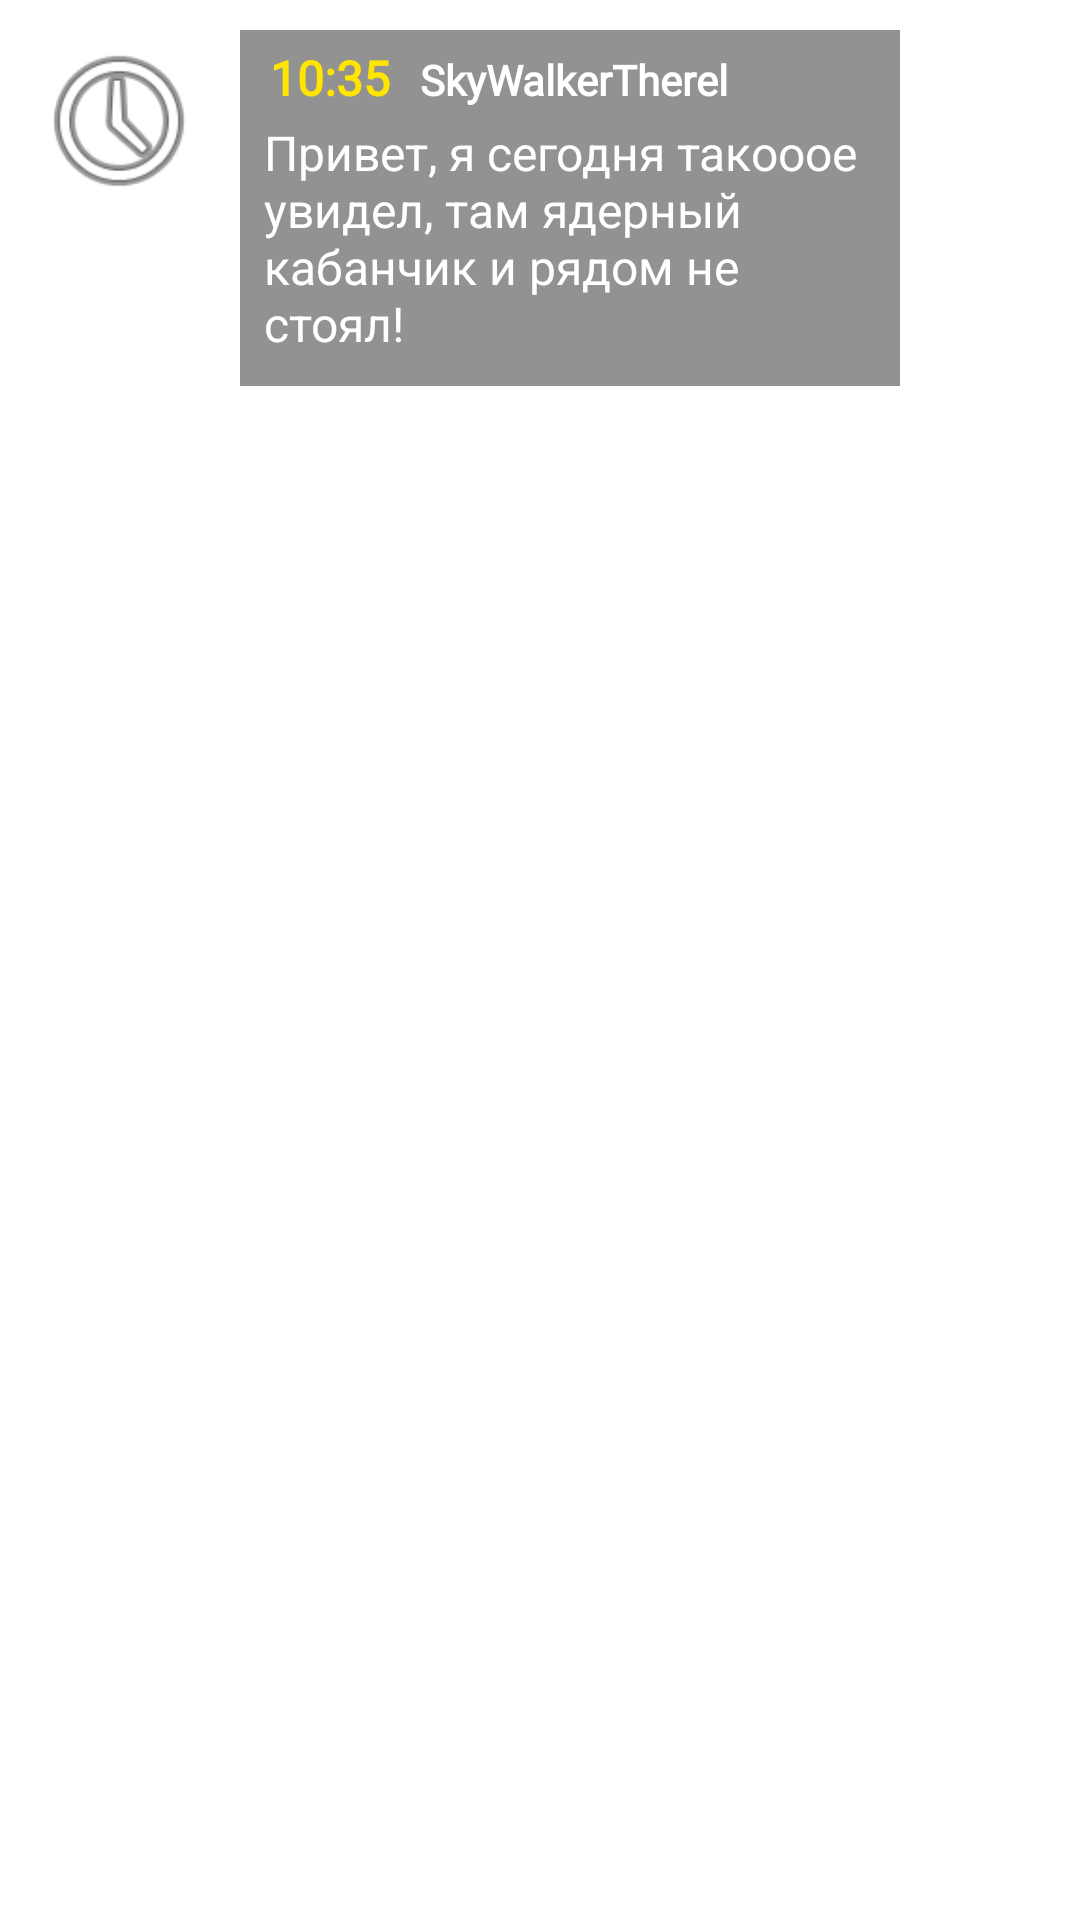

Where icons sit on this 1080*1920 app screen, as (x1, y1, x2, y2):
recent history: (54, 56, 184, 186)
